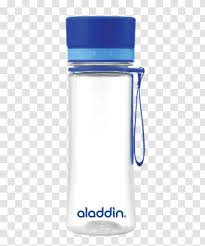available: (63, 12, 145, 240)
